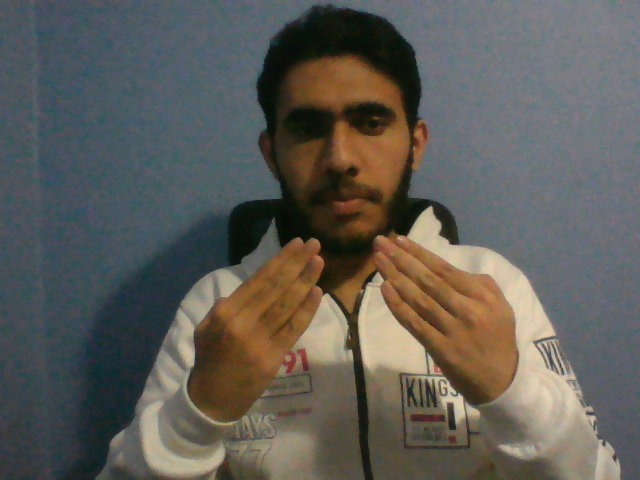thanks: (185, 226, 522, 422)
